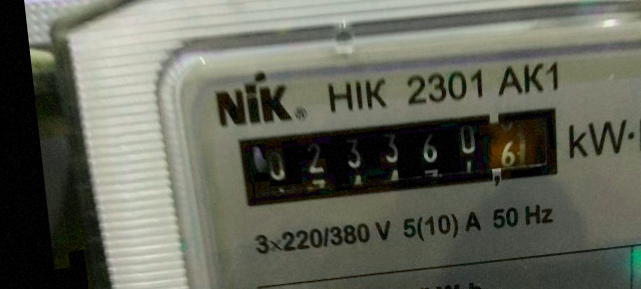0: (262, 144, 288, 182), (453, 119, 479, 156)
2: (302, 138, 326, 175)
3: (340, 134, 364, 171), (379, 129, 401, 165)
6: (416, 127, 440, 163), (495, 134, 517, 169)
screen: (223, 89, 582, 226)
